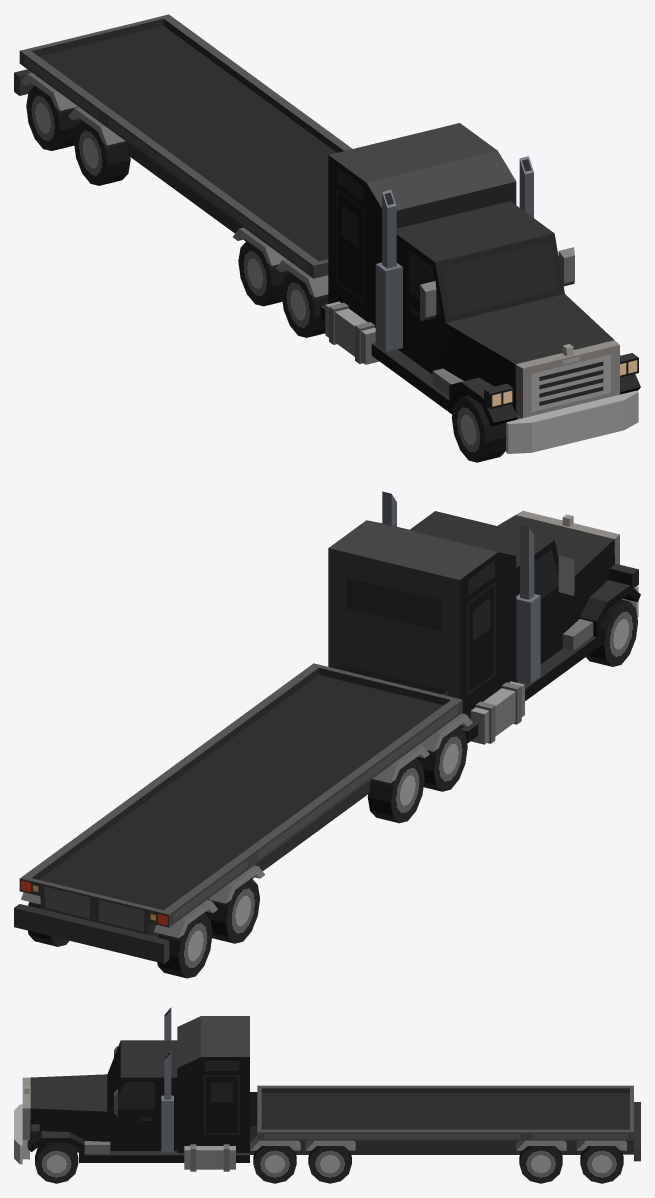
File: SM_Veh_BigRig_01_black.obj
The picture shows the model from 3 angles, top to bottom: view 1: azimuth 30°, elevation 25°; view 2: azimuth 150°, elevation 25°; view 3: azimuth 270°, elevation 25°; orthographic projection. The views are drawn at different scales.
Parts seen in each view (by area): view 1: SM_Veh_BigRig_01:Mesh; view 2: SM_Veh_BigRig_01:Mesh; view 3: SM_Veh_BigRig_01:Mesh.
Part boxes in pixels (box(x1,y1,x2,y2)): SM_Veh_BigRig_01:Mesh: box(14, 14, 640, 462); SM_Veh_BigRig_01:Mesh: box(14, 491, 640, 978); SM_Veh_BigRig_01:Mesh: box(14, 1007, 640, 1183).
Bounding box in the file's own units: 3.78 × 4.52 × 19.78.
Materials: 1 (1 with a texture image).
